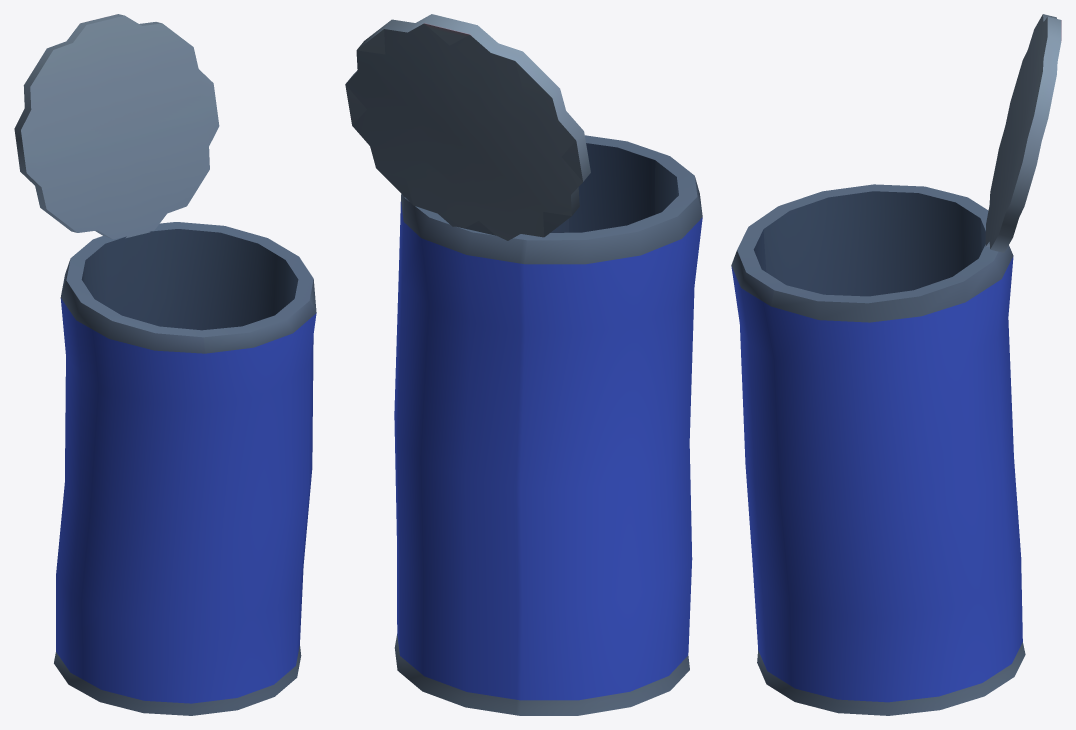
The model's file is can4.fbx.
3 views of the same model, side by side, from view 1: azimuth 30°, elevation 25°; view 2: azimuth 150°, elevation 25°; view 3: azimuth 270°, elevation 25° (orthographic). The views are drawn at different scales.
Parts seen in each view (by area): view 1: can4; view 2: can4; view 3: can4.
Part boxes in pixels (x1,y1,x2,y2): can4: (14,14,316,715); can4: (345,14,702,715); can4: (731,14,1061,715).
Size of the model in its own units: 0.00111 by 0.00282 by 0.00132.
1 material, 1 textured.
